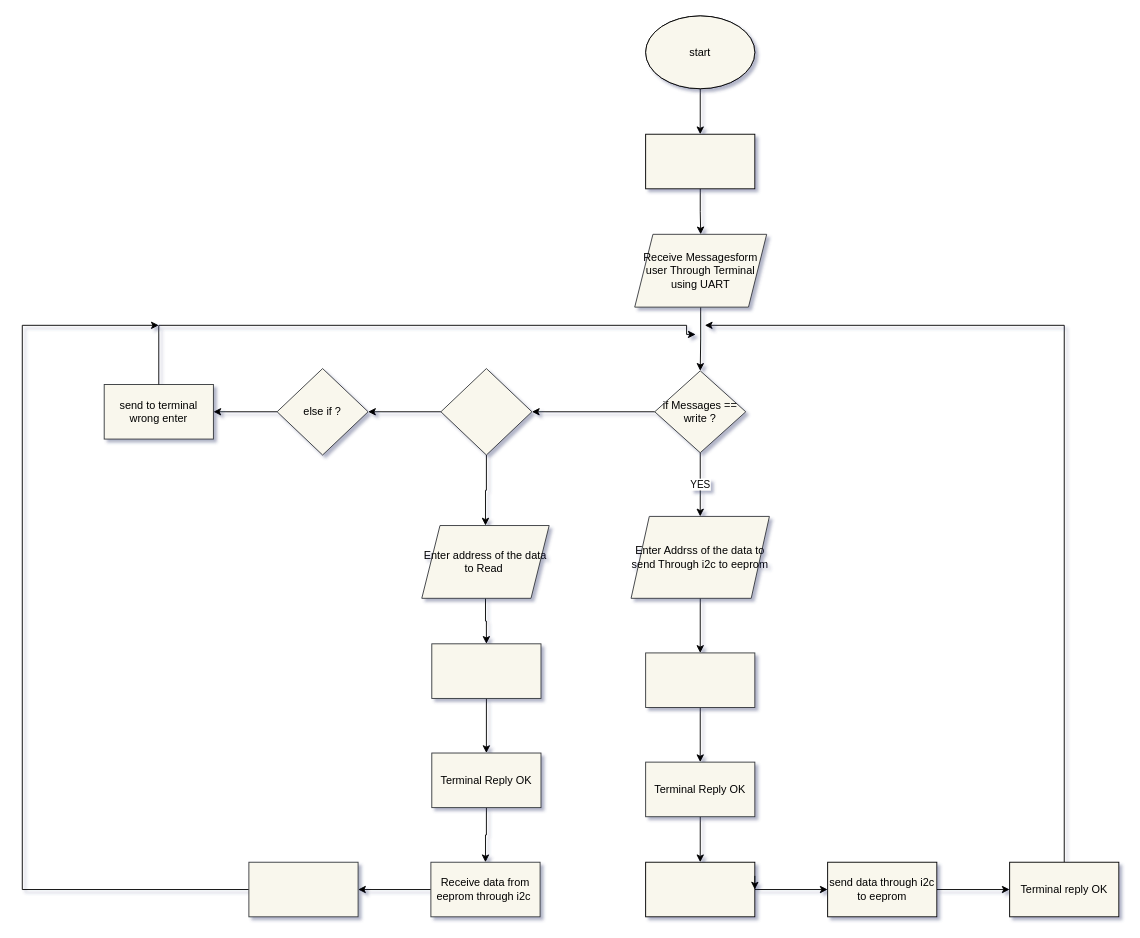
Image size: 1140x938. Some labels were removed from this diagram. The centre of each missing label's shape, as x and y in pixels:
convert address form string to number send addrss to eeprom throught i2c: pixel 700 680
convert addrss from string to number and send address to eeprom throught i2c: pixel 486 670
display data on terminal throught uart: pixel 303 889
if Messages== read ?: pixel 486 411
Initialize DIO, Uart, I2C, EEPROM: pixel 700 161
Send one byte then press enter: pixel 700 889
